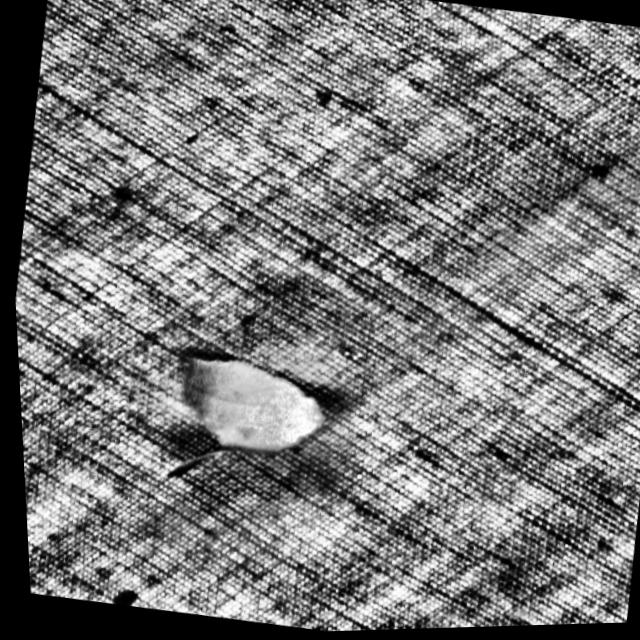Hole: (121, 320, 349, 488)
